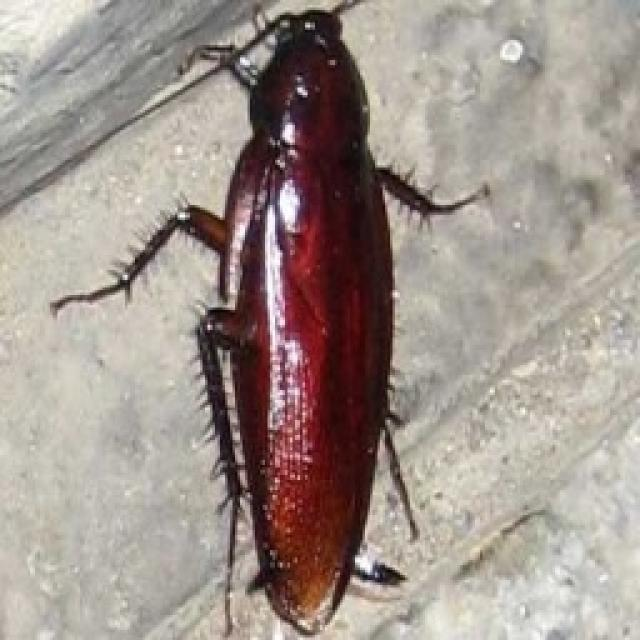cockroach: (46, 5, 494, 637)
